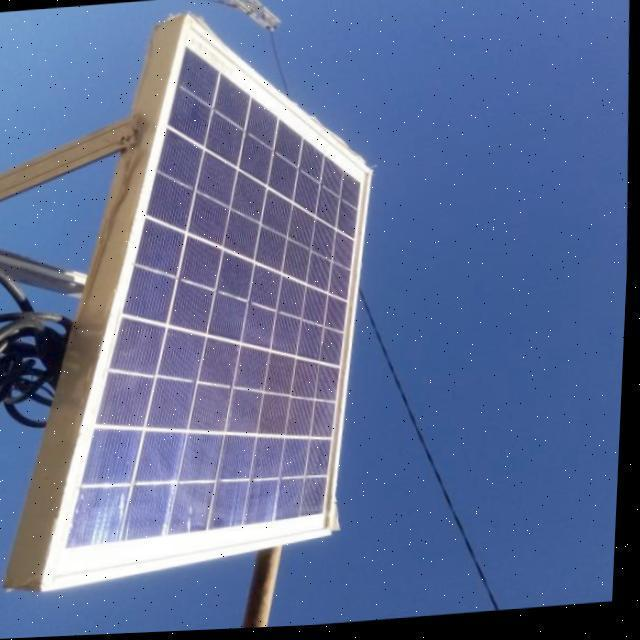Normal Solar Panel: (25, 0, 397, 591)
